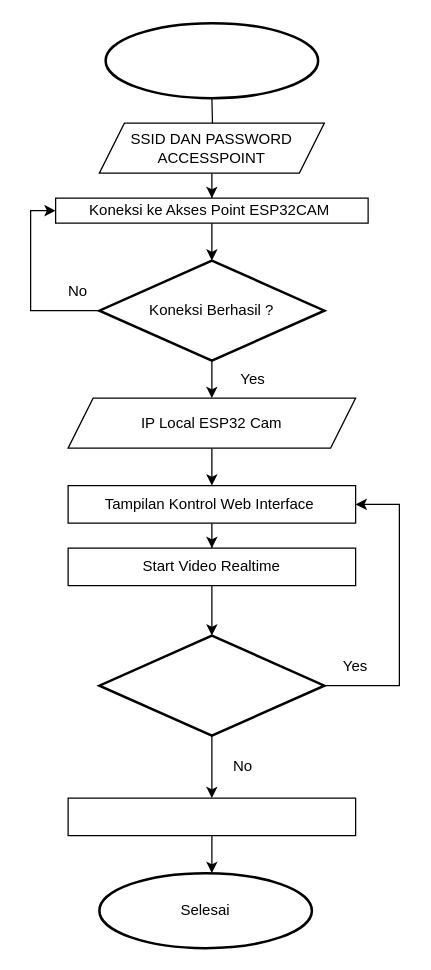
Image size: 431x970. Some labels were removed from this diagram. Here are the shapes that lost their labels. From the top down, the box of each, then its label:
(104, 21, 319, 99): Mulai
(98, 634, 325, 736): Apakah Terdapat Masalah ?
(67, 797, 356, 836): Menggerakan Robot dan Pant Tilt
